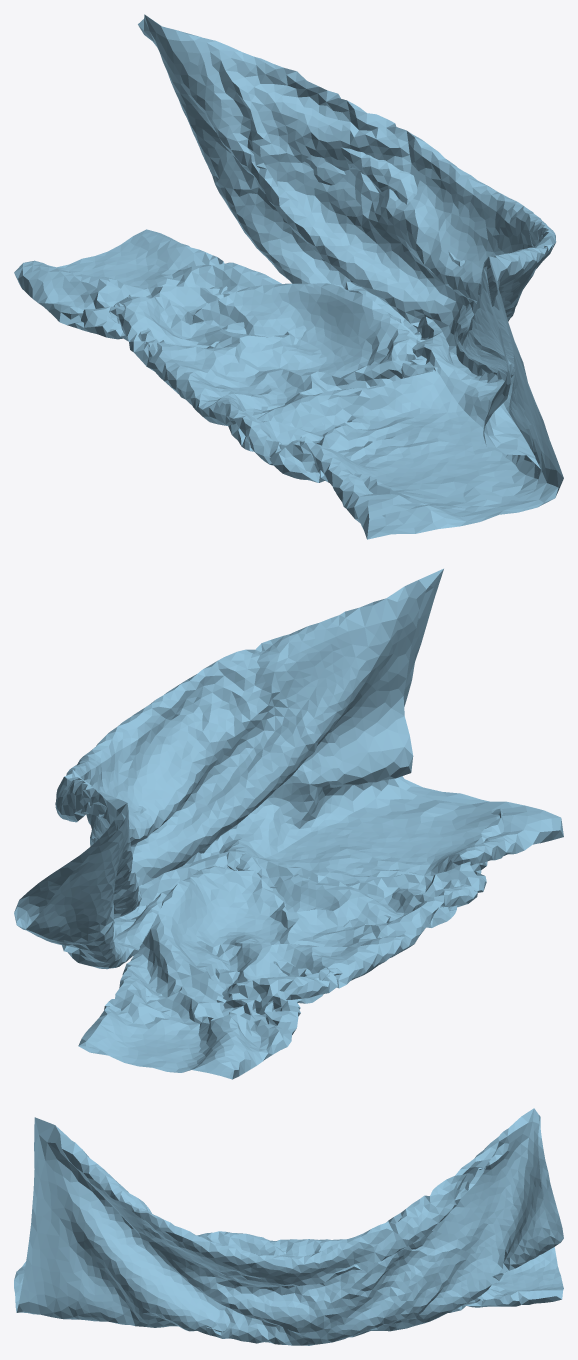
File: frame_14.glb
The picture shows the model from 3 angles, top to bottom: view 1: azimuth 30°, elevation 25°; view 2: azimuth 150°, elevation 25°; view 3: azimuth 270°, elevation 25°; orthographic projection. The views are drawn at different scales.
Visible parts, largest first — view 1: frame_14.obj; view 2: frame_14.obj; view 3: frame_14.obj.
Boxes of the visible parts, x1,y1,x2,y2 form: frame_14.obj: (14, 14, 563, 539); frame_14.obj: (14, 568, 563, 1079); frame_14.obj: (14, 1108, 563, 1345).
Size of the model in its own units: 0.8846 by 0.6616 by 1.74.
